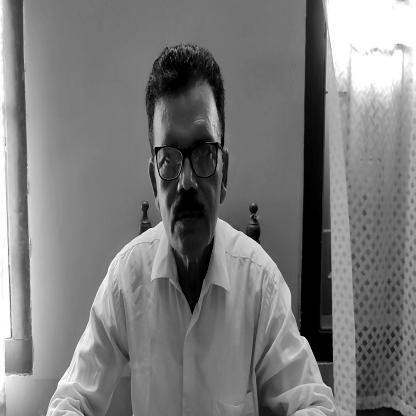Normal: (145, 56, 227, 255)
